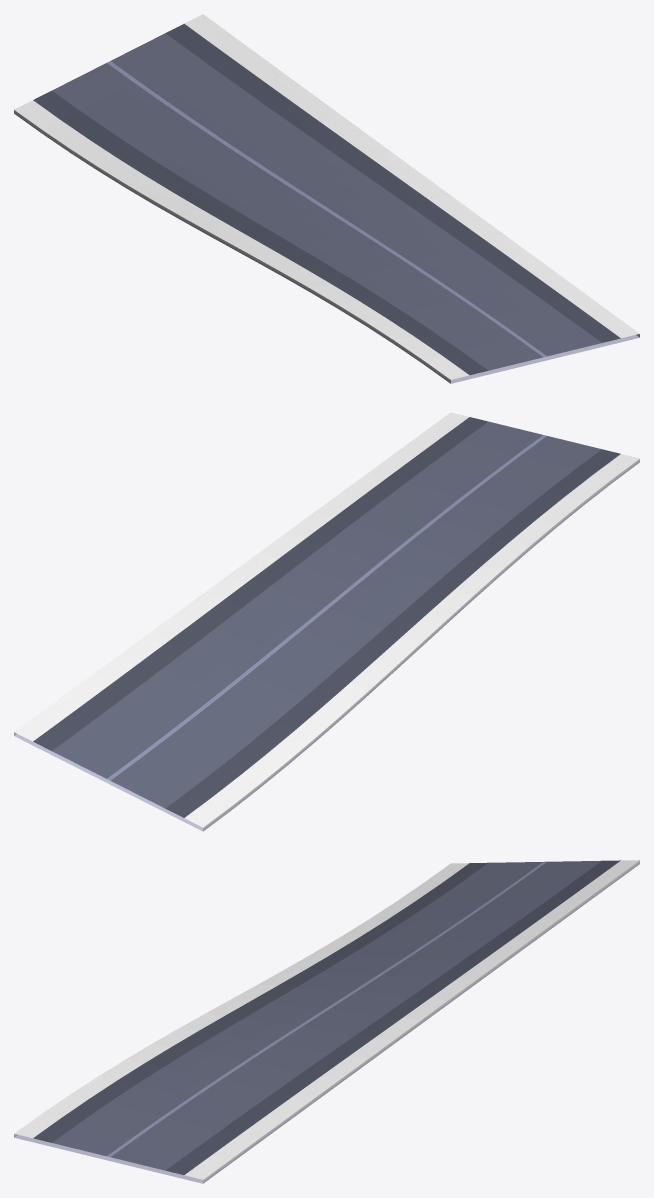
Rendered from road-Straight-Flat-HalfBankedLeft-Down1-Center-Size4.glb.
The picture shows the model from 3 angles, top to bottom: view 1: azimuth 30°, elevation 25°; view 2: azimuth 150°, elevation 25°; view 3: azimuth 330°, elevation 25°; orthographic projection.
Parts seen in each view (by area): view 1: road-Straight-Flat-HalfBankedLeft-Down1-Center-Size4; view 2: road-Straight-Flat-HalfBankedLeft-Down1-Center-Size4; view 3: road-Straight-Flat-HalfBankedLeft-Down1-Center-Size4.
Boxes of the visible parts, x1=… form: road-Straight-Flat-HalfBankedLeft-Down1-Center-Size4: x1=14, y1=14, x2=639, y2=383; road-Straight-Flat-HalfBankedLeft-Down1-Center-Size4: x1=14, y1=412, x2=639, y2=831; road-Straight-Flat-HalfBankedLeft-Down1-Center-Size4: x1=14, y1=860, x2=639, y2=1183.
Bounding box in the file's own units: 1 × 0.27 × 4.
Materials: 1 (1 with a texture image).
